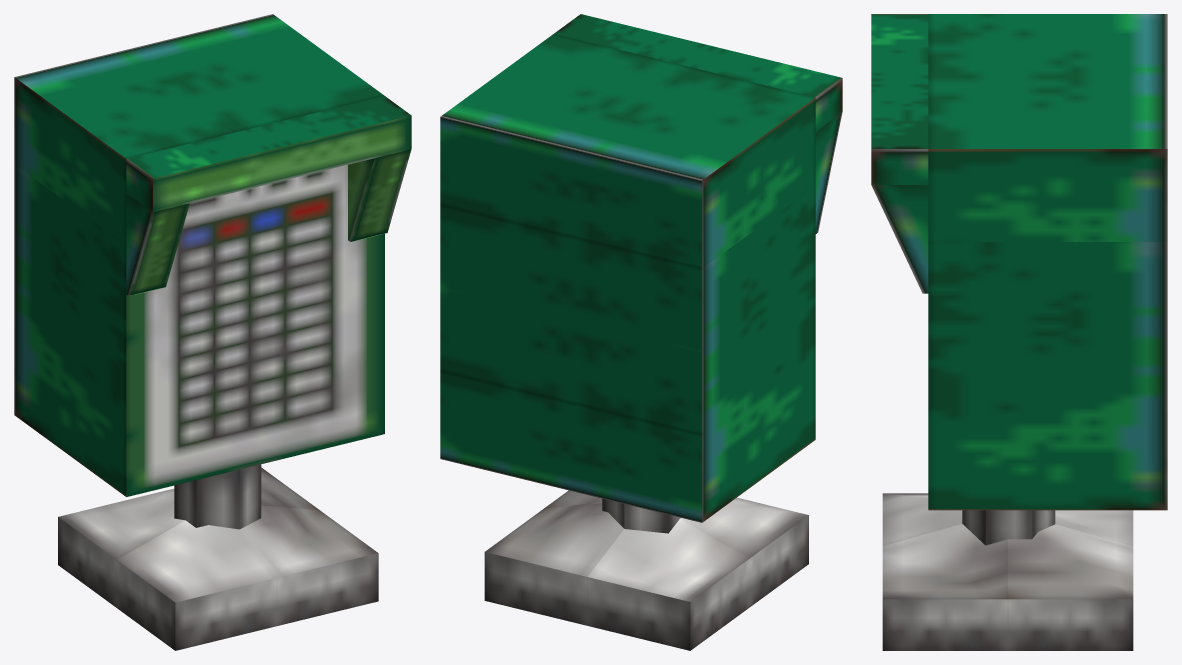
The model's file is Poly_SF_Outside_B_Timetable_01.obj.
3 renders of one model, left to right at view 1: azimuth 30°, elevation 25°; view 2: azimuth 150°, elevation 25°; view 3: azimuth 270°, elevation 25°, orthographic. The views are drawn at different scales.
Parts seen in each view (by area): view 1: Cube.001, Cube.003, Cube.004, Cube.002; view 2: Cube.001, Cube.003, Cube.004, Cube.002; view 3: Cube.001, Cube.003, Cube.004, Cube.002.
Part boxes in pixels (box(x1,y1,x2,y2)): Cube.001: box(14, 14, 384, 650); Cube.003: box(126, 96, 411, 212); Cube.004: box(126, 149, 411, 295); Cube.002: box(174, 464, 261, 529); Cube.001: box(440, 34, 815, 650); Cube.003: box(554, 14, 842, 131); Cube.004: box(815, 112, 842, 233); Cube.002: box(602, 498, 680, 533); Cube.001: box(882, 14, 1167, 650); Cube.003: box(871, 14, 928, 184); Cube.004: box(871, 185, 928, 293); Cube.002: box(962, 510, 1055, 545).
Bounding box in the file's own units: 0.56 × 1 × 0.52.
Materials: 1 (1 with a texture image).
